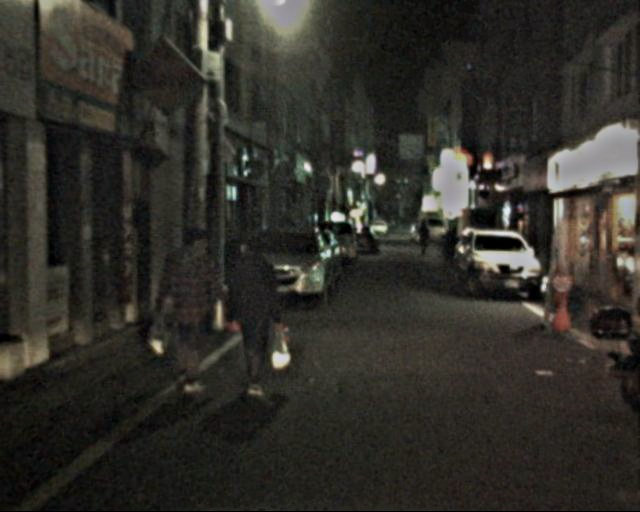person: (157, 227, 227, 398), (220, 236, 288, 396), (416, 223, 431, 258)
